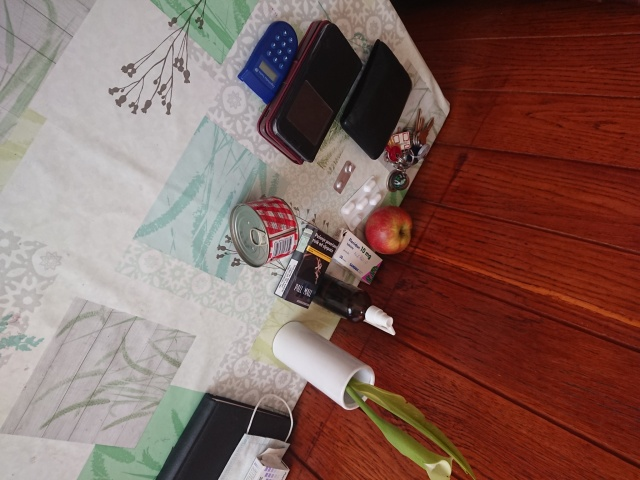Podravka Luncheon Meat 150g: (227, 194, 302, 270)
